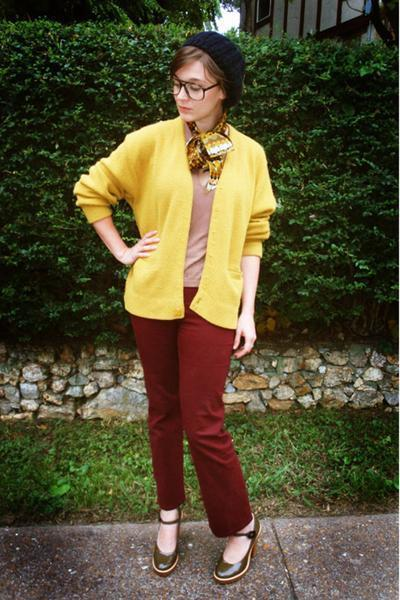hat: (186, 29, 243, 106)
jacket: (73, 117, 282, 328)
pants: (130, 287, 252, 537)
shirt: (180, 180, 217, 289)
shoe: (156, 523, 259, 577)
